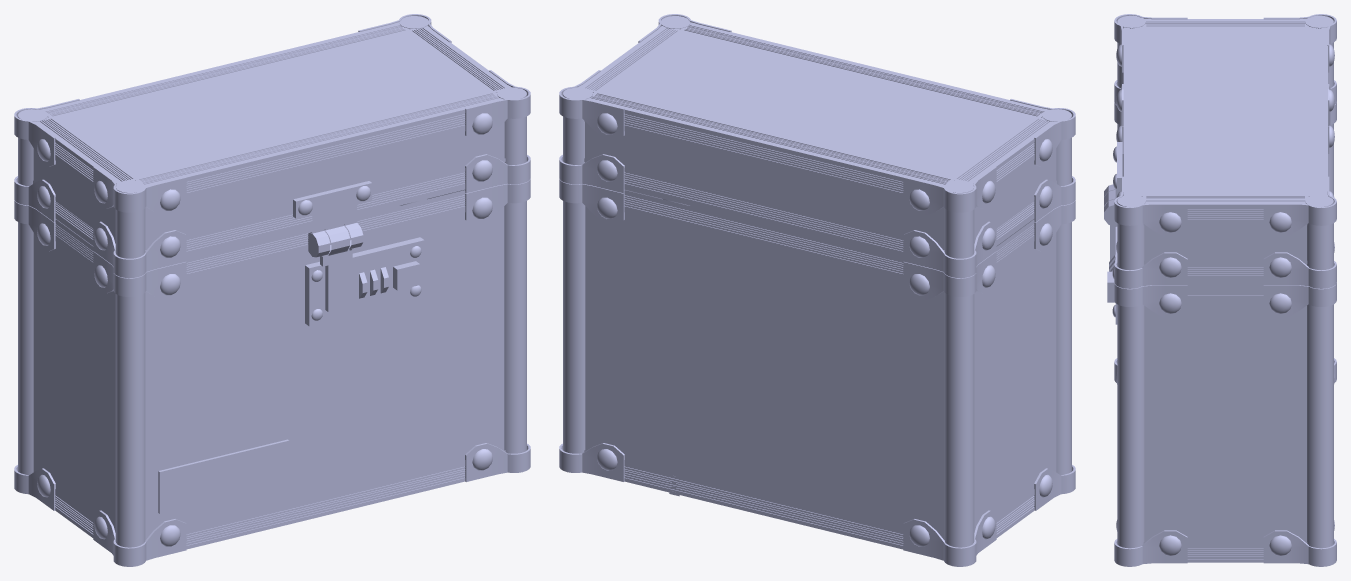
File: toolbox_mesh_WIP.fbx
3 renders of one model, left to right at view 1: azimuth 30°, elevation 25°; view 2: azimuth 150°, elevation 25°; view 3: azimuth 270°, elevation 25°, orthographic. The views are drawn at different scales.
Visible parts, largest first — view 1: pPlane46, pPlane5, pPlane42, pPlane47, pPlane51, pCylinder23, pPlane48, pCube143, pCylinder31, pPlane50, pPlane49, pCube137 (+27 smaller); view 2: pPlane9, pPlane5, pPlane42, pPlane10, pPlane34, pCylinder22, pPlane16, pPlane26, pPlane35, pCylinder30, pPlane51, pCylinder23 (+21 smaller); view 3: pPlane28, pPlane5, pCylinder31, pCylinder30, pPlane29, pPlane51, pPlane34, pPlane36, pCylinder50, pPlane31, pCylinder35, pPlane40 (+24 smaller).
Boxes of the visible parts, box(x1,y1,x2,y2) form: pPlane46: box(145, 190, 504, 537); pPlane5: box(45, 30, 493, 178); pPlane42: box(33, 219, 115, 533); pPlane47: box(145, 122, 504, 245); pPlane51: box(128, 90, 505, 208); pCylinder23: box(115, 293, 145, 547); pPlane48: box(145, 450, 505, 549); pCube143: box(158, 439, 289, 513); pCylinder31: box(504, 201, 526, 453); pPlane50: box(186, 190, 465, 279); pPlane49: box(145, 158, 505, 257); pCube137: box(305, 237, 424, 326); pPlane9: box(585, 190, 944, 537); pPlane5: box(596, 31, 1044, 178); pPlane42: box(974, 219, 1056, 532); pPlane10: box(585, 121, 944, 245); pPlane34: box(584, 89, 962, 209); pCylinder22: box(944, 293, 974, 547); pPlane16: box(584, 158, 944, 257); pPlane26: box(624, 191, 903, 279); pPlane35: box(584, 450, 944, 549); pCylinder30: box(563, 201, 585, 453); pPlane51: box(672, 22, 1049, 120); pCylinder23: box(1056, 222, 1071, 475); pPlane28: box(1144, 286, 1306, 558); pPlane5: box(1130, 28, 1321, 194); pCylinder31: box(1117, 304, 1144, 548); pCylinder30: box(1307, 304, 1333, 548); pPlane29: box(1144, 208, 1306, 265); pPlane51: box(1123, 24, 1146, 198); pPlane34: box(1305, 24, 1327, 198); pPlane36: box(1135, 194, 1314, 225); pCylinder50: box(1263, 176, 1336, 236); pPlane31: box(1144, 260, 1307, 281); pCylinder35: box(1114, 176, 1187, 236); pPlane40: box(1135, 19, 1316, 28).
Size of the model in its own units: 7.94 by 6.88 by 4.03.
